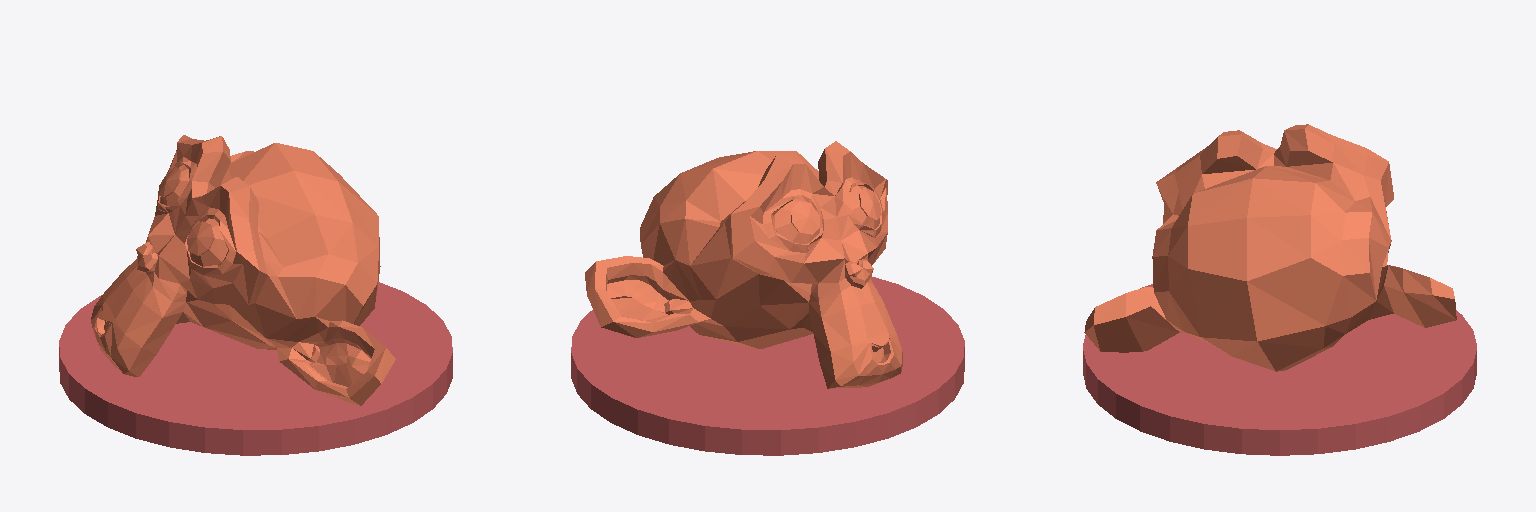
File: suzanne_simple_mesh.obj
3 views of the same model, side by side, from view 1: azimuth 30°, elevation 25°; view 2: azimuth 150°, elevation 25°; view 3: azimuth 270°, elevation 25° (orthographic).
Parts seen in each view (by area): view 1: mesh_1, mesh_0; view 2: mesh_1, mesh_0; view 3: mesh_1, mesh_0.
Boxes of the visible parts, x1=… form: mesh_1: x1=91, y1=135, x2=395, y2=405; mesh_0: x1=59, y1=282, x2=452, y2=455; mesh_1: x1=585, y1=141, x2=902, y2=388; mesh_0: x1=571, y1=276, x2=964, y2=455; mesh_1: x1=1084, y1=124, x2=1456, y2=371; mesh_0: x1=1083, y1=284, x2=1476, y2=455.
Size of the model in its own units: 2.8 by 1.82 by 2.8.